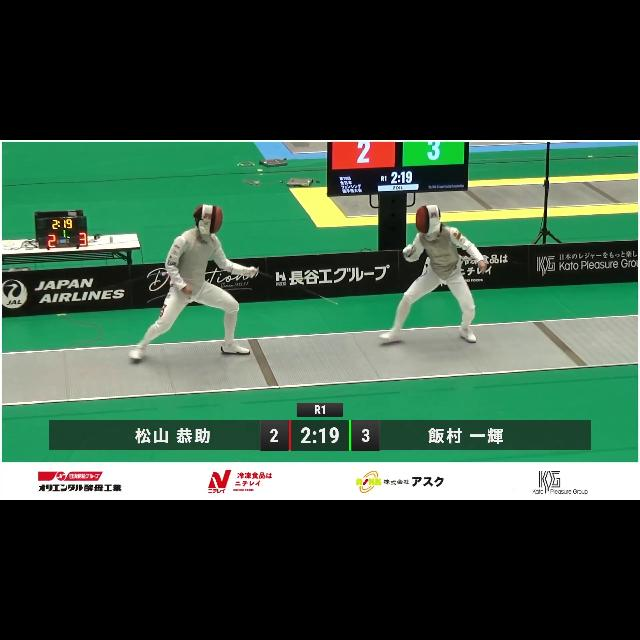blade: (243, 265, 347, 313)
